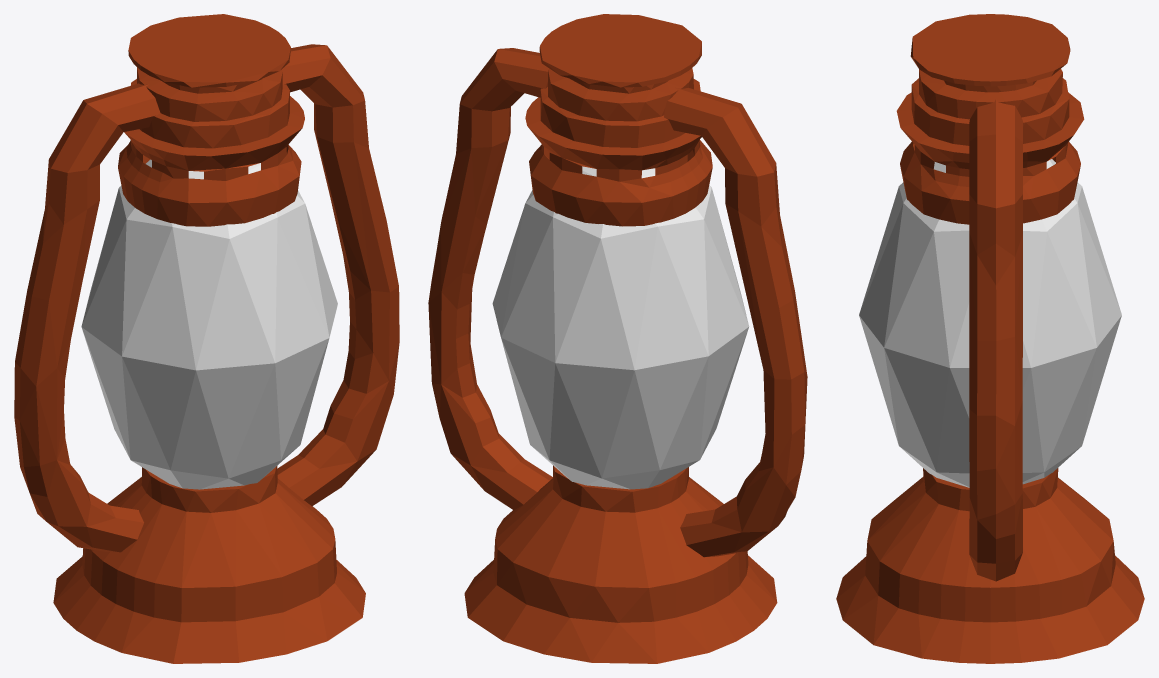
The model's file is Lantern_1.fbx.
The picture shows the model from 3 angles, left to right: view 1: azimuth 30°, elevation 25°; view 2: azimuth 150°, elevation 25°; view 3: azimuth 270°, elevation 25°; orthographic projection.
Visible parts, largest first — view 1: Cone.001; view 2: Cone.001; view 3: Cone.001.
Boxes of the visible parts, x1,y1,x2,y2 form: Cone.001: [14, 14, 399, 663]; Cone.001: [428, 14, 807, 663]; Cone.001: [836, 14, 1144, 663].
Size of the model in its own units: 127 by 178 by 90.14.
